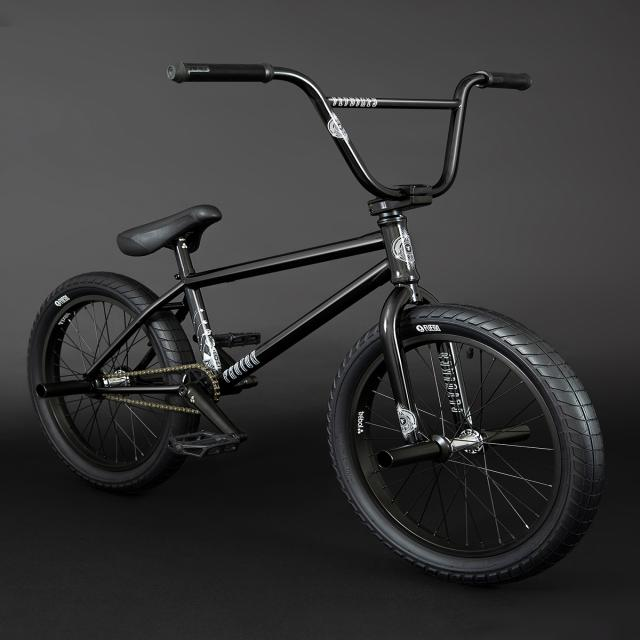bmx-bike: (24, 62, 610, 586)
